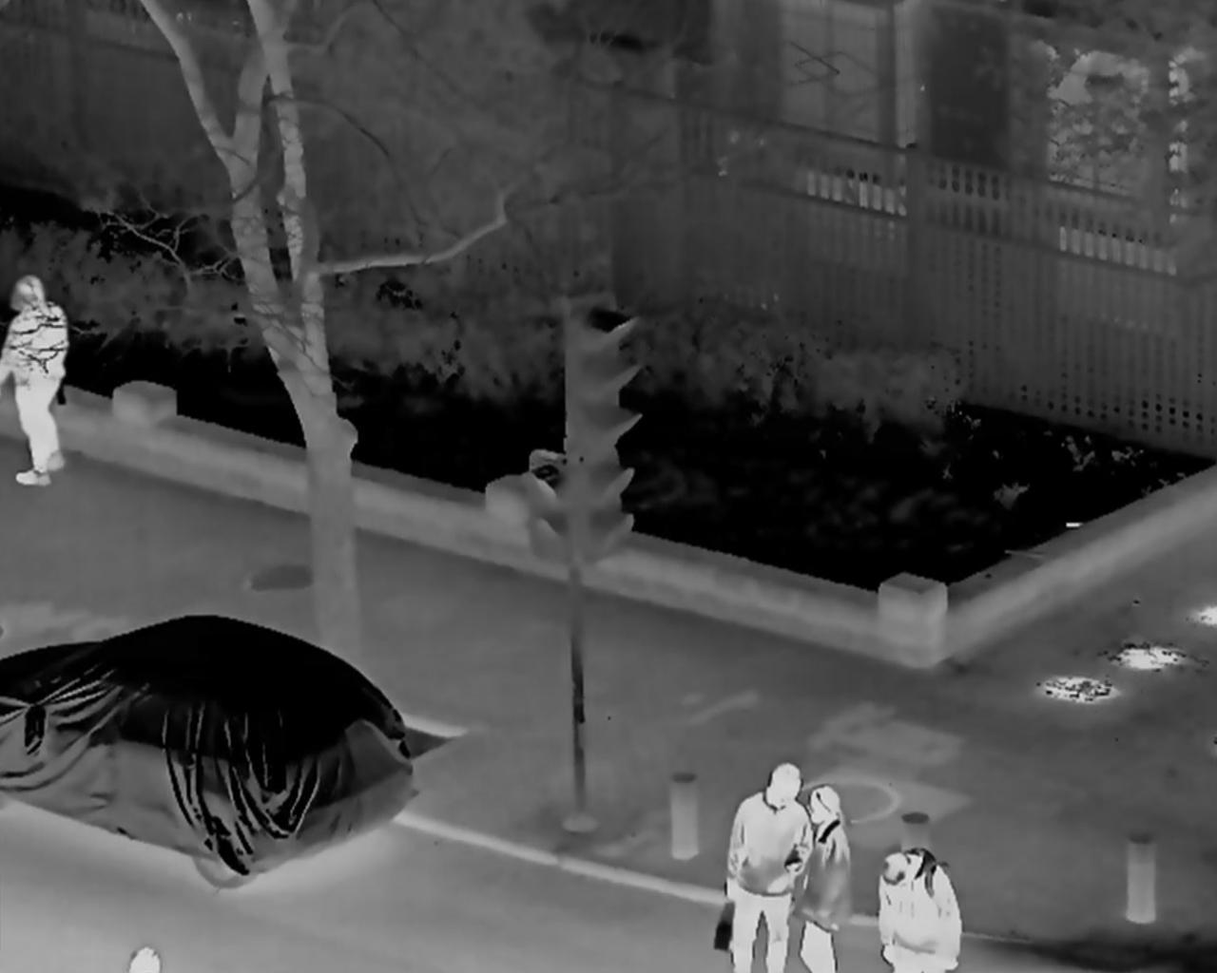person: (724, 763, 801, 973), (788, 788, 860, 973), (878, 850, 955, 973)
